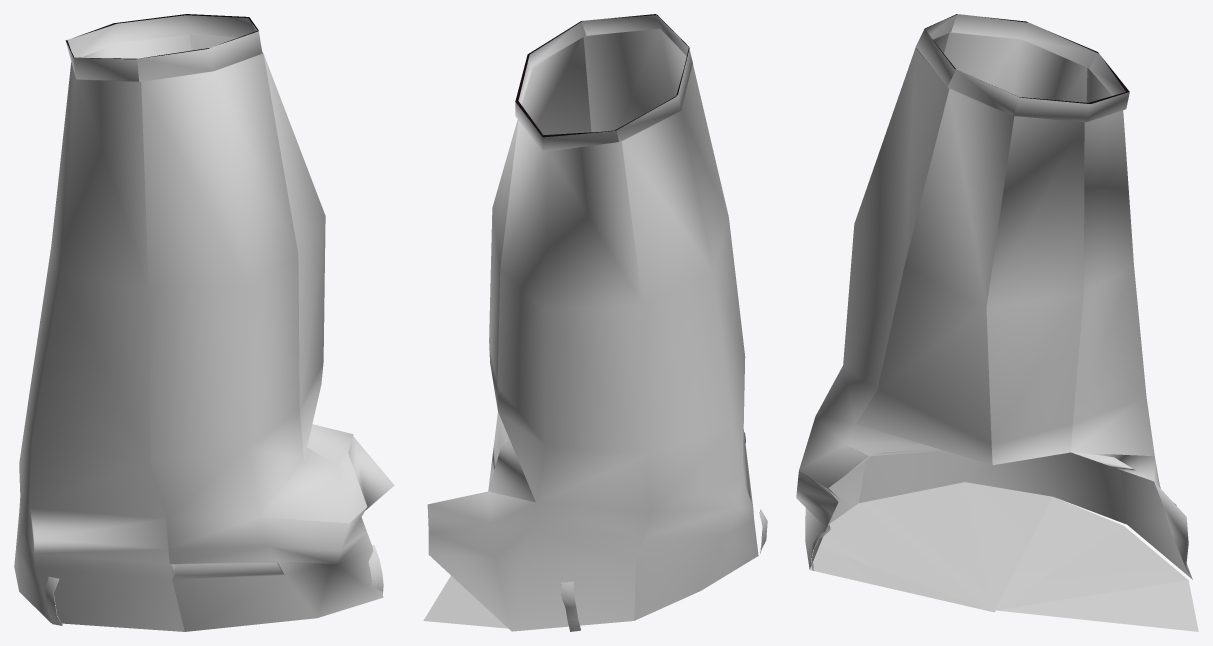
The model's file is left_up_leg.glb.
3 views of the same model, side by side, from view 1: azimuth 30°, elevation 25°; view 2: azimuth 150°, elevation 25°; view 3: azimuth 270°, elevation 25° (orthographic). The views are drawn at different scales.
Parts seen in each view (by area): view 1: shorts-white_LEFT_UP_LEG; view 2: shorts-white_LEFT_UP_LEG; view 3: shorts-white_LEFT_UP_LEG.
Boxes of the visible parts, <box> form: shorts-white_LEFT_UP_LEG: <box>14,14,394,631</box>; shorts-white_LEFT_UP_LEG: <box>423,14,767,631</box>; shorts-white_LEFT_UP_LEG: <box>796,14,1198,631</box>.
Bounding box in the file's own units: 0.2571 × 0.5018 × 0.3315.
Materials: 1 (1 with a texture image).
